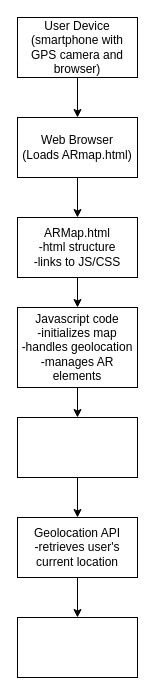
Image size: 155x695. Some labels were removed from this diagram. Here are the shapes that lost their labels. From the top down, the centre of each, then its label:
At point (77, 447): "Leaflet.js -displays interactive map -handles map events".
At point (77, 647): "AR.js library -renders AR content -Handles marker detection".
